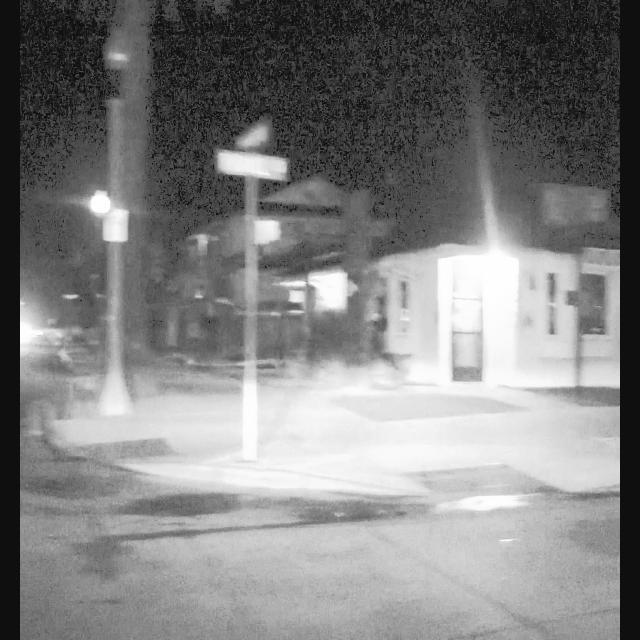Sign: (215, 151, 289, 182), (230, 115, 271, 153), (102, 208, 128, 241)
